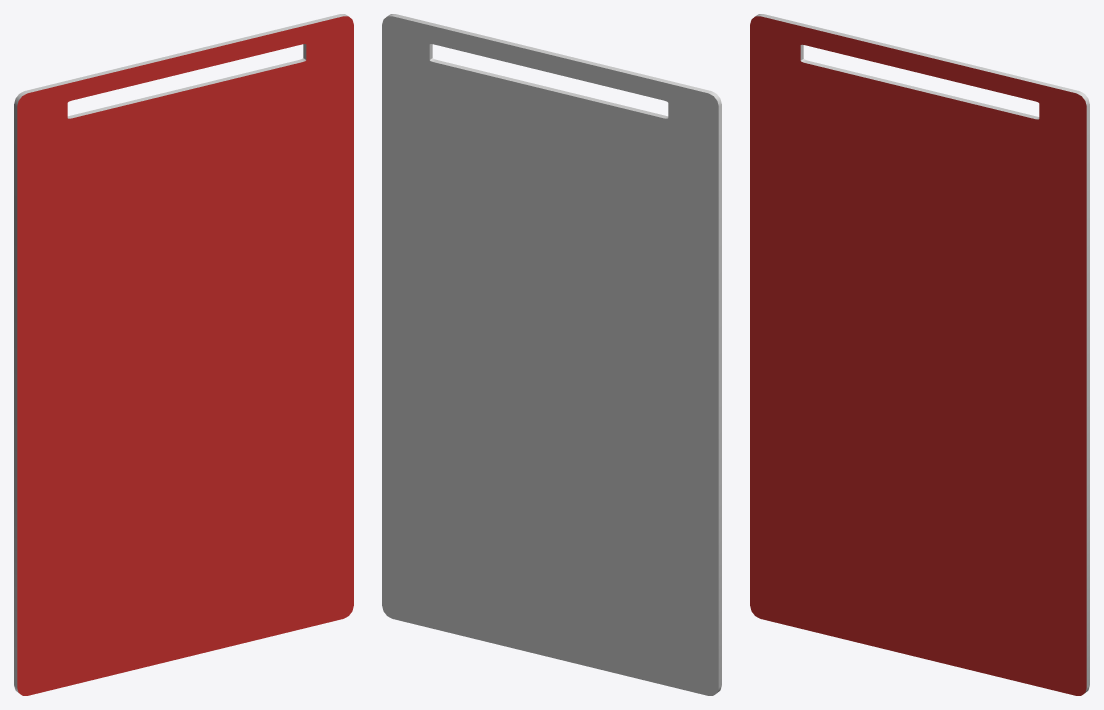
The model's file is Keycard_2.fbx.
3 views of the same model, side by side, from view 1: azimuth 30°, elevation 25°; view 2: azimuth 150°, elevation 25°; view 3: azimuth 330°, elevation 25° (orthographic).
Parts seen in each view (by area): view 1: Keycard_2; view 2: Keycard_2; view 3: Keycard_2.
Boxes of the visible parts, <box> form: Keycard_2: <box>14,14,353,695</box>; Keycard_2: <box>382,14,721,695</box>; Keycard_2: <box>750,14,1089,695</box>.
Bounding box in the file's own units: 2.87 × 4.91 × 0.0461.
